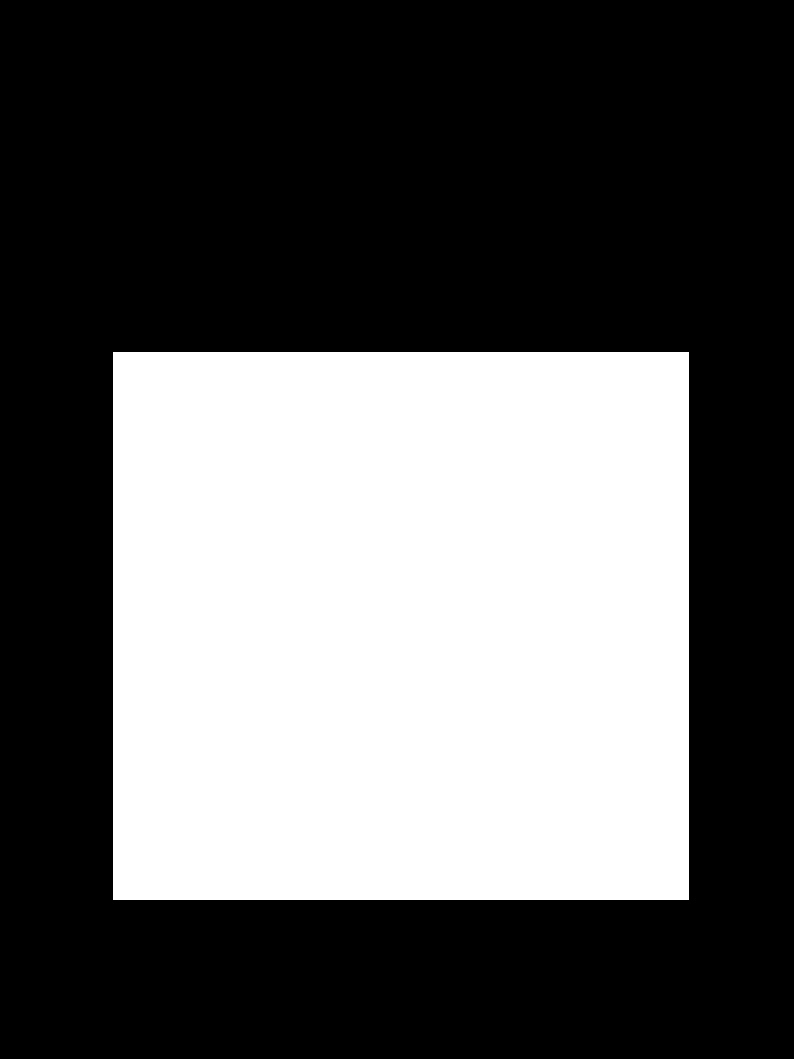table: (113, 352, 688, 899)
